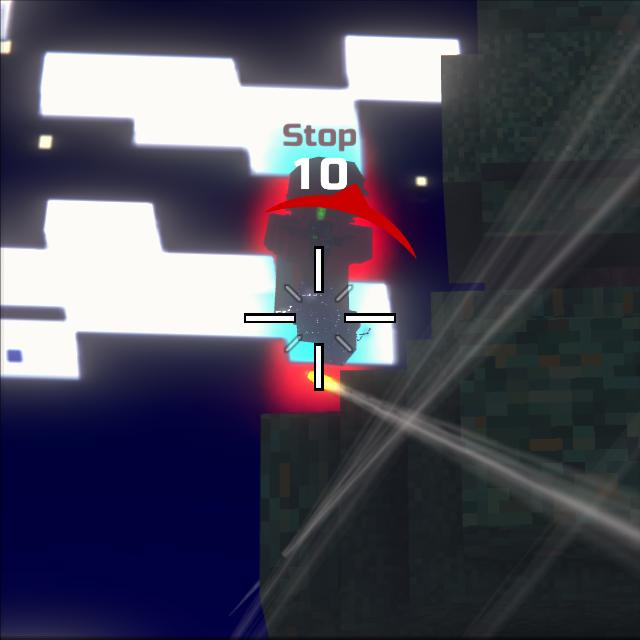Enemy: (269, 199, 390, 363)
